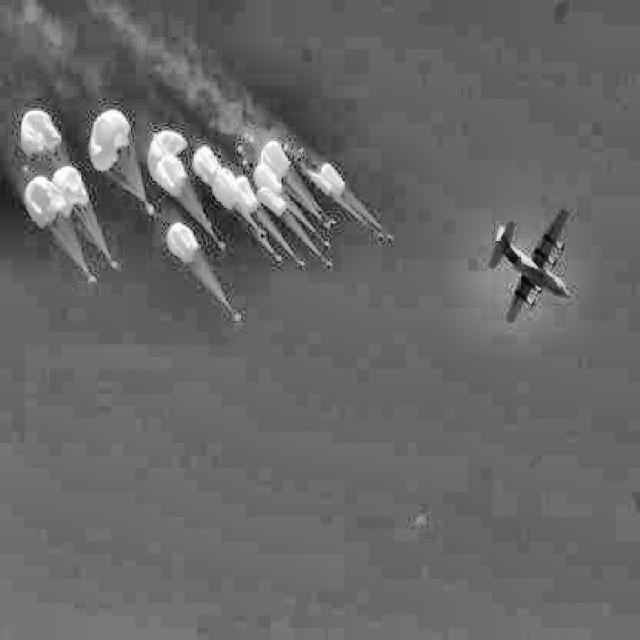C130: (488, 208, 570, 323)
